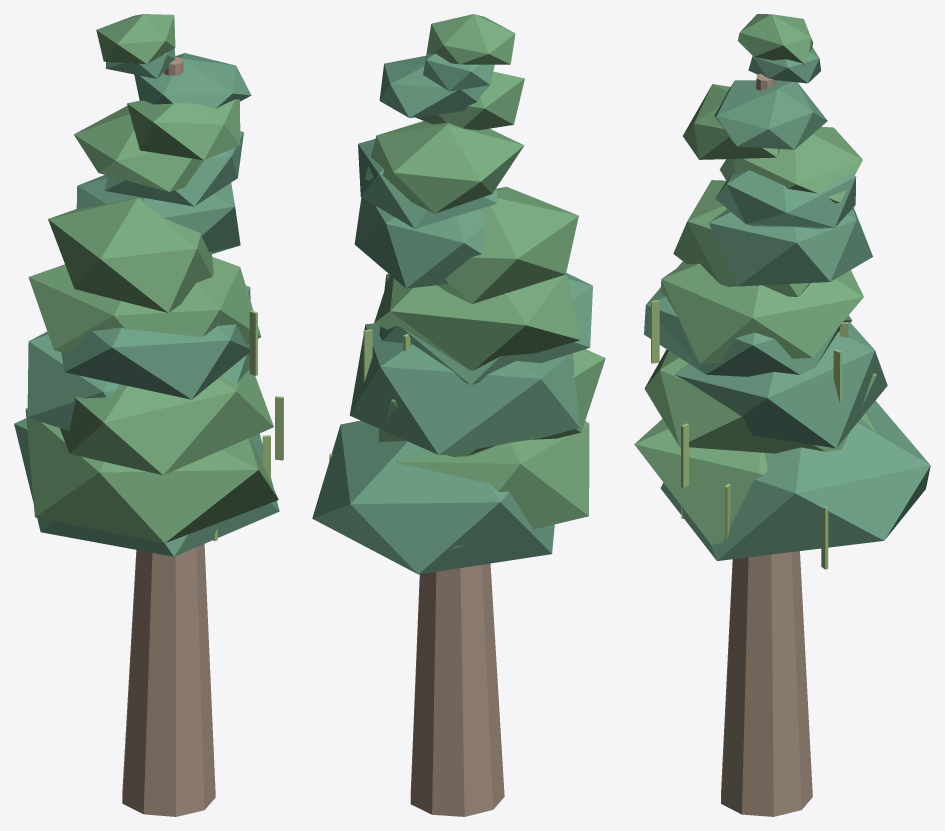
Rendered from Tree_Cypress.fbx.
3 renders of one model, left to right at view 1: azimuth 30°, elevation 25°; view 2: azimuth 150°, elevation 25°; view 3: azimuth 270°, elevation 25°, orthographic. The views are drawn at different scales.
Visible parts, largest first — view 1: Tree_Cypress_Mesh; view 2: Tree_Cypress_Mesh; view 3: Tree_Cypress_Mesh.
Boxes of the visible parts, <box> form: Tree_Cypress_Mesh: <box>14,14,283,816</box>; Tree_Cypress_Mesh: <box>312,14,605,816</box>; Tree_Cypress_Mesh: <box>634,14,930,816</box>.
Bounding box in the file's own units: 3.9 × 12.62 × 4.39.
